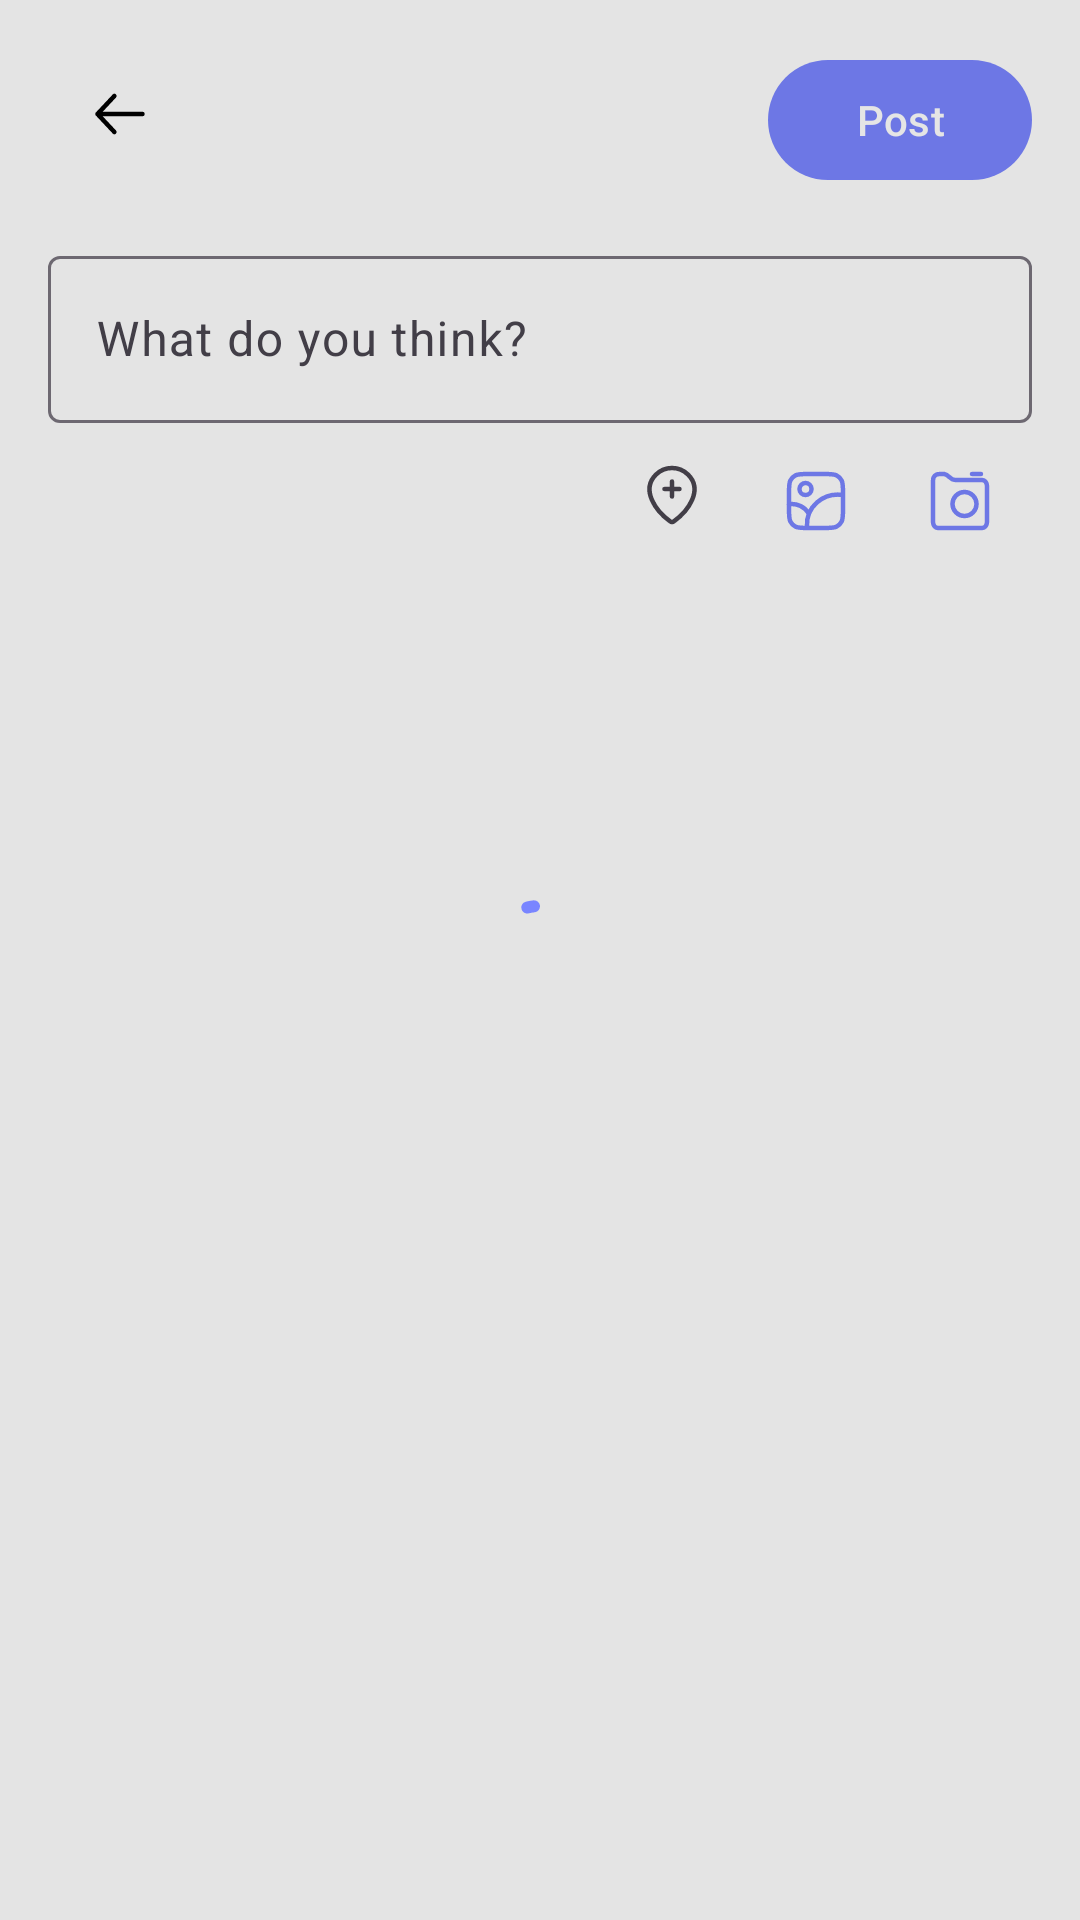

Screen size 1080px×1920px. Icon name, then its box in pixels as (x1, y1, x2, y2):
back: (95, 93, 145, 135)
pick a location: (647, 465, 697, 525)
pick from gallery: (786, 471, 846, 531)
take from camera: (930, 471, 990, 531)
